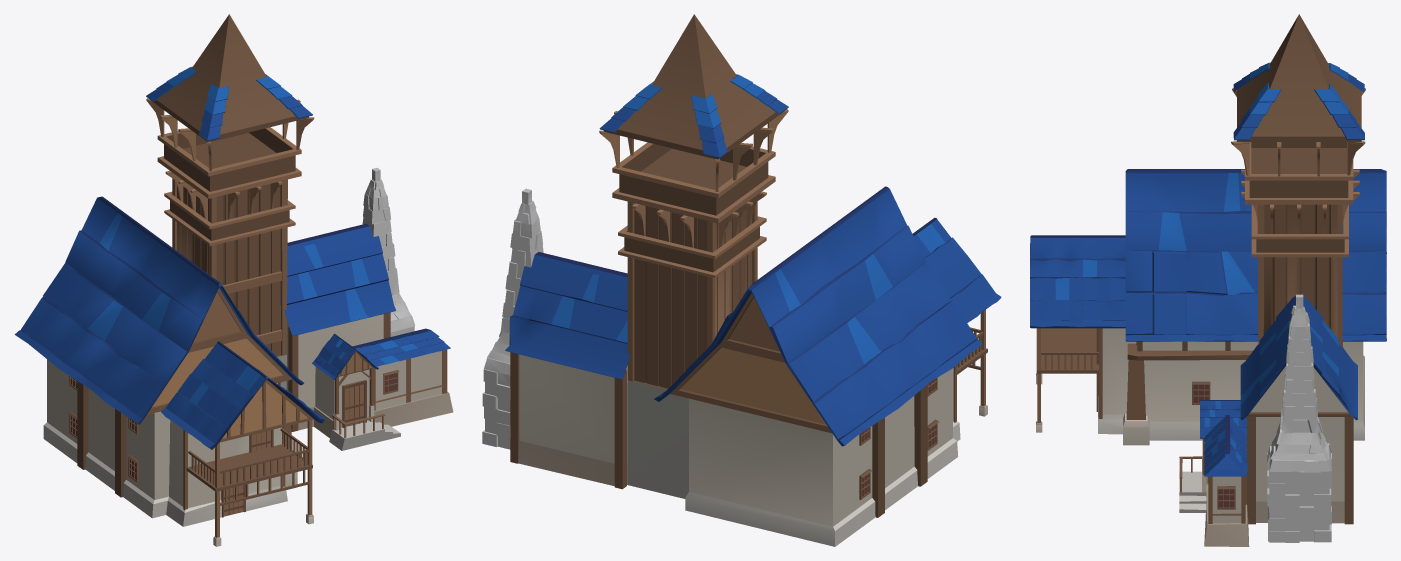
The model's file is Guild.fbx.
3 views of the same model, side by side, from view 1: azimuth 30°, elevation 25°; view 2: azimuth 150°, elevation 25°; view 3: azimuth 270°, elevation 25° (orthographic). The views are drawn at different scales.
Parts seen in each view (by area): view 1: Guild House; view 2: Guild House; view 3: Guild House.
Boxes of the visible parts, bbox=[...] form: Guild House: bbox=[14, 14, 453, 546]; Guild House: bbox=[482, 14, 1001, 546]; Guild House: bbox=[1030, 14, 1386, 546].
Size of the model in its own units: 2806 by 3084 by 2274.
4 materials, 4 textured.
